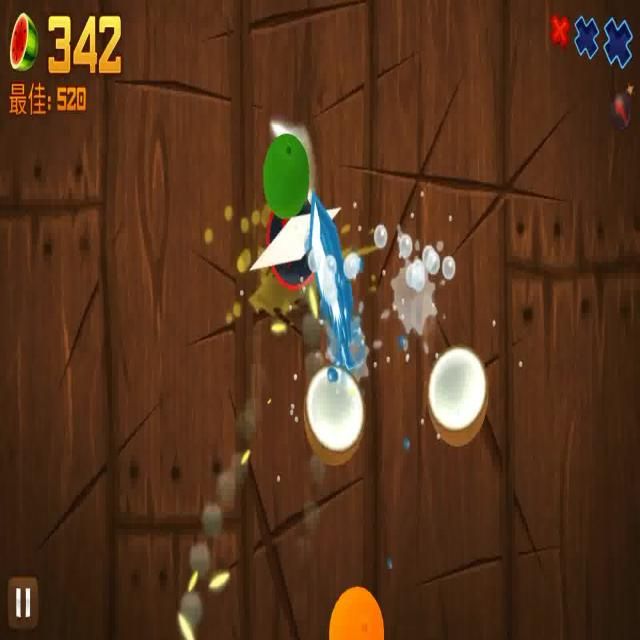bomb: (256, 212, 352, 310)
fruit: (304, 346, 372, 472), (422, 345, 490, 439), (263, 123, 313, 215), (322, 578, 388, 640)
